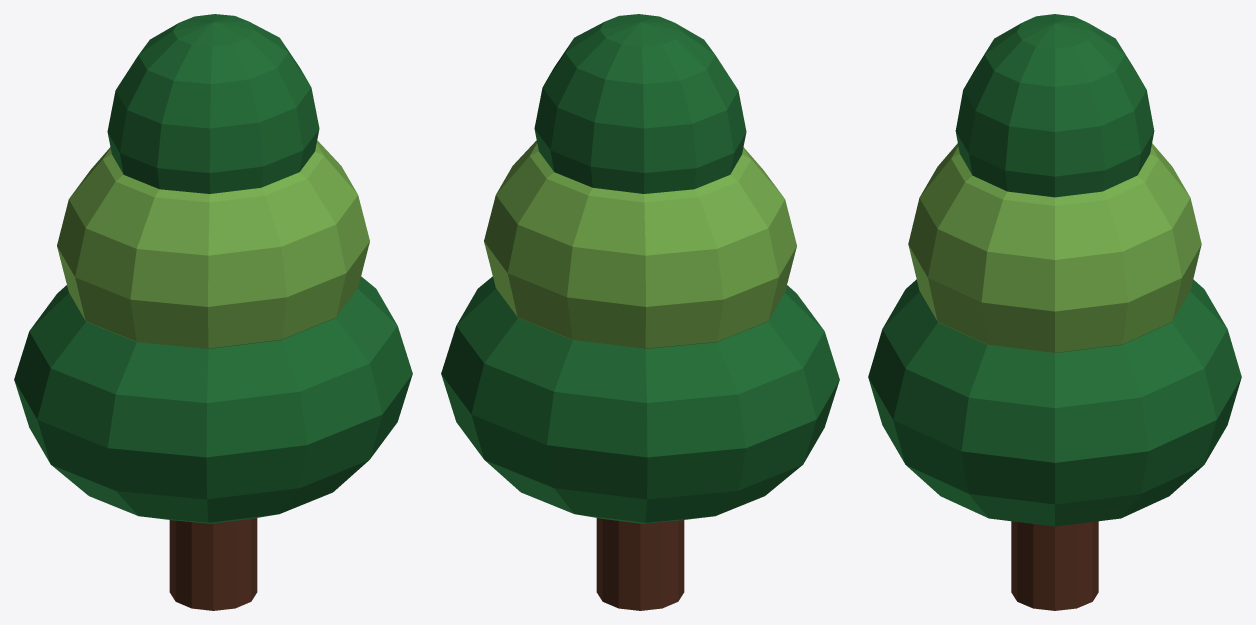
The model's file is tree.glb.
3 renders of one model, left to right at view 1: azimuth 30°, elevation 25°; view 2: azimuth 150°, elevation 25°; view 3: azimuth 270°, elevation 25°, orthographic.
Parts seen in each view (by area): view 1: tree_Surface; view 2: tree_Surface; view 3: tree_Surface.
Part boxes in pixels (x1,y1,x2,y2): tree_Surface: (14,14,412,610); tree_Surface: (441,14,839,610); tree_Surface: (868,14,1241,610).
Bounding box in the file's own units: 2.05 × 3.17 × 1.89.
1 material, 1 textured.
